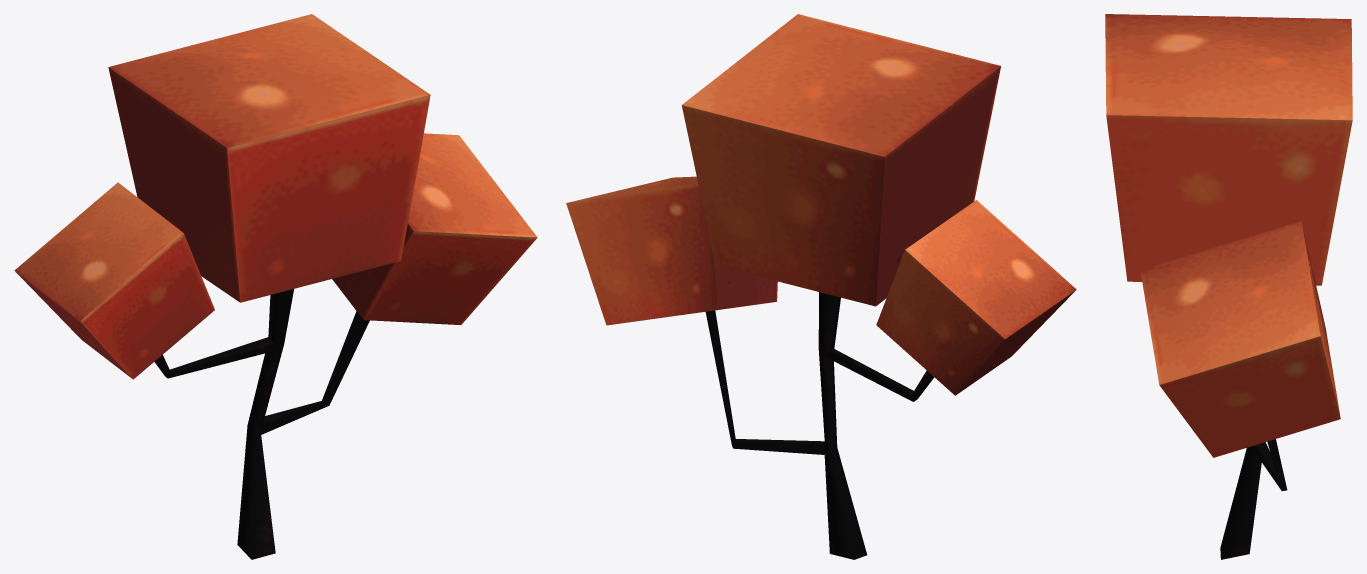
Rendered from cj_tree5.fbx.
3 renders of one model, left to right at view 1: azimuth 30°, elevation 25°; view 2: azimuth 150°, elevation 25°; view 3: azimuth 270°, elevation 25°, orthographic. The views are drawn at different scales.
Parts seen in each view (by area): view 1: cj_tree5; view 2: cj_tree5; view 3: cj_tree5.
Part boxes in pixels (x1,y1,x2,y2): cj_tree5: (14, 14, 537, 559); cj_tree5: (566, 14, 1076, 559); cj_tree5: (1105, 14, 1352, 559).
Size of the model in its own units: 583 by 603 by 267.
